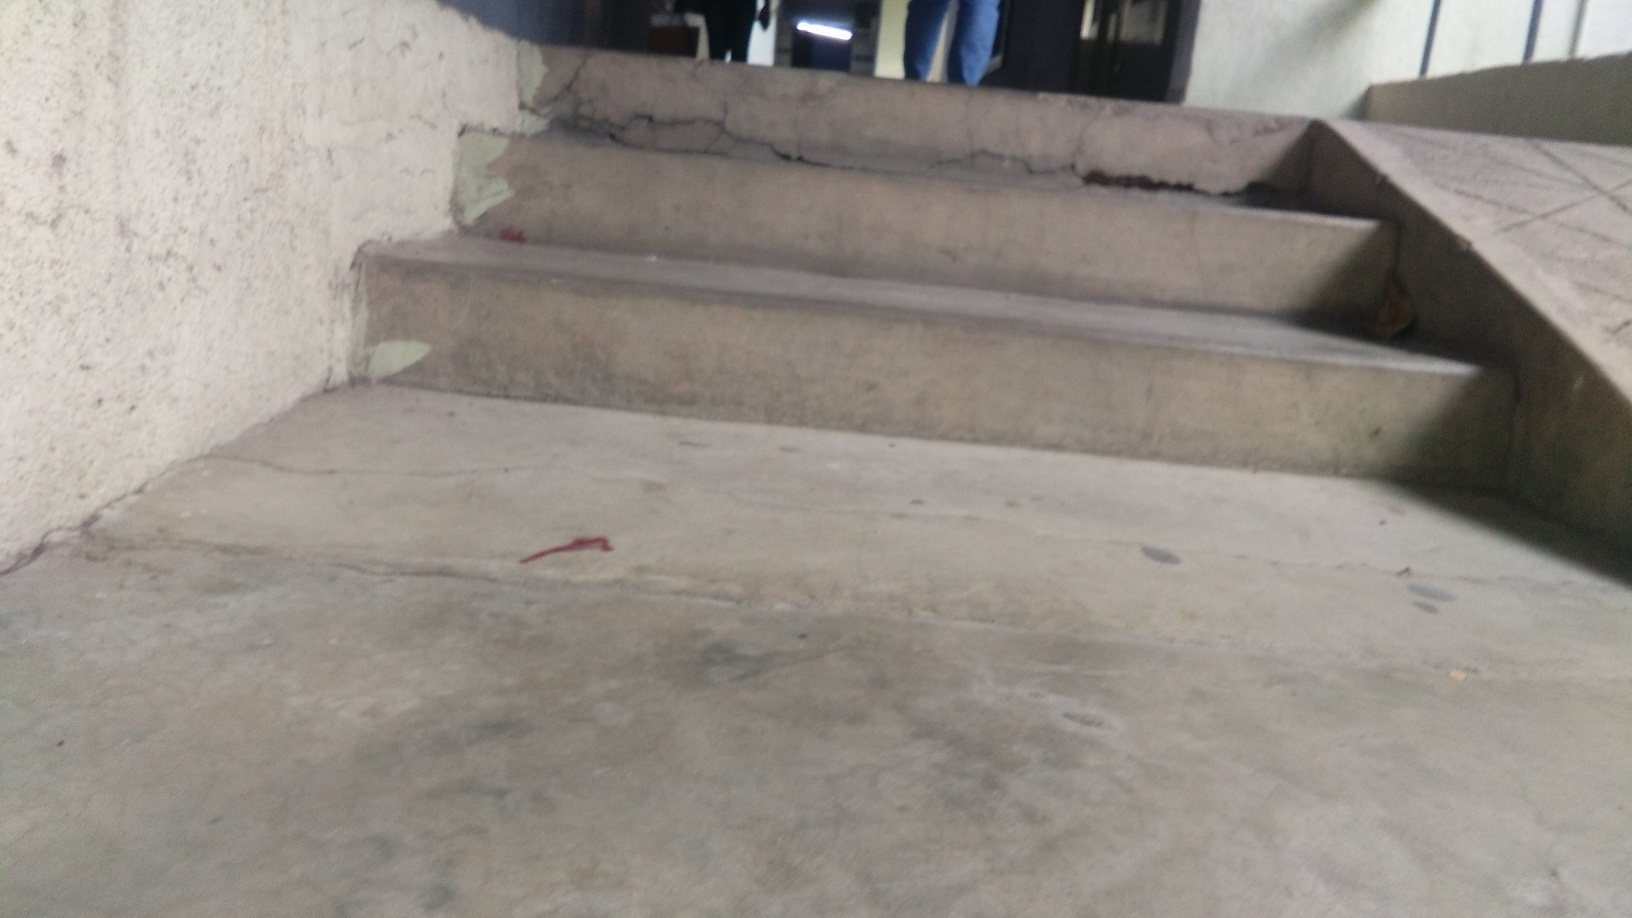stairs_up: (438, 37, 1497, 488)
